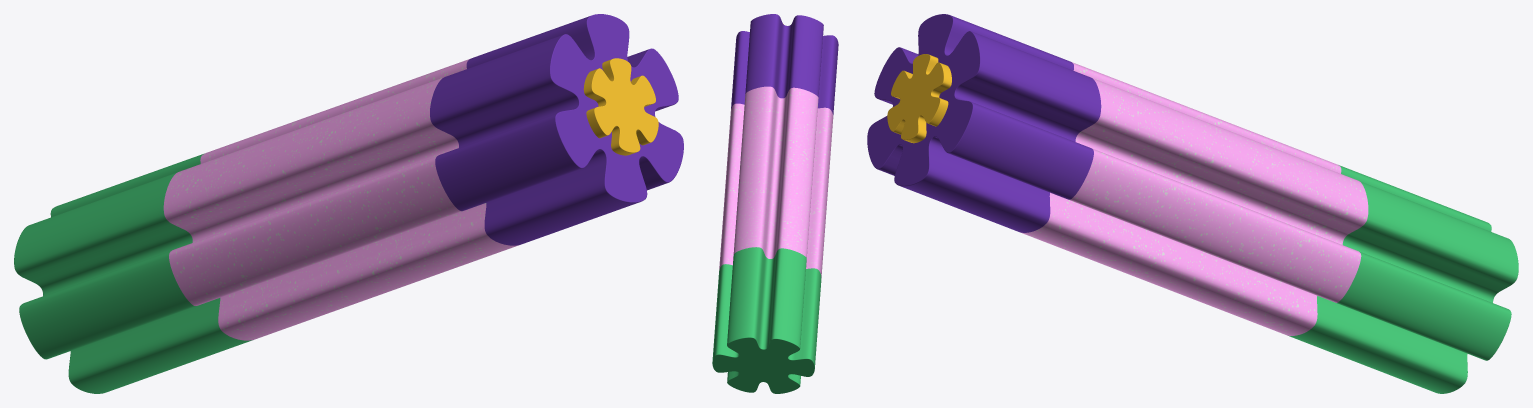
3 renders of one model, left to right at view 1: azimuth 30°, elevation 25°; view 2: azimuth 150°, elevation 25°; view 3: azimuth 270°, elevation 25°, orthographic. The views are drawn at different scales.
Visible parts, largest first — view 1: Flower, Extrude_2; view 2: Flower; view 3: Flower, Extrude_2.
Boxes of the visible parts, x1,y1,x2,y2 form: Flower: [14, 14, 683, 393]; Extrude_2: [583, 58, 658, 155]; Flower: [712, 14, 838, 393]; Flower: [867, 14, 1518, 393]; Extrude_2: [887, 54, 951, 143].
Size of the model in its own units: 6.91 by 8.08 by 10.51.
